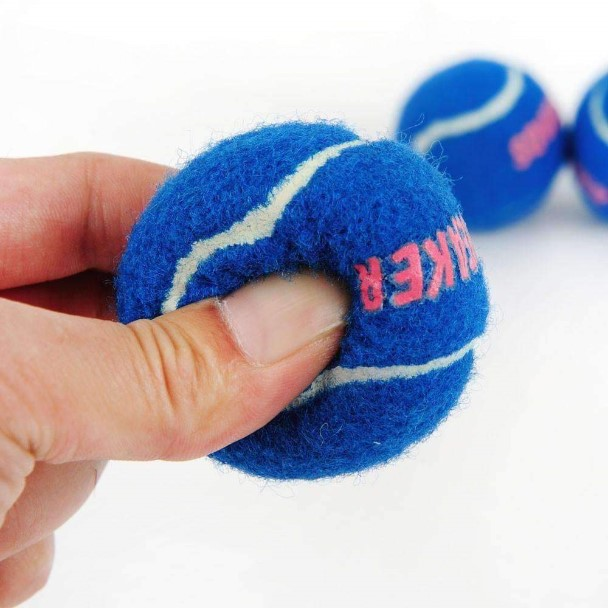blue ball: (114, 118, 492, 482), (396, 58, 563, 235), (574, 70, 608, 222)
